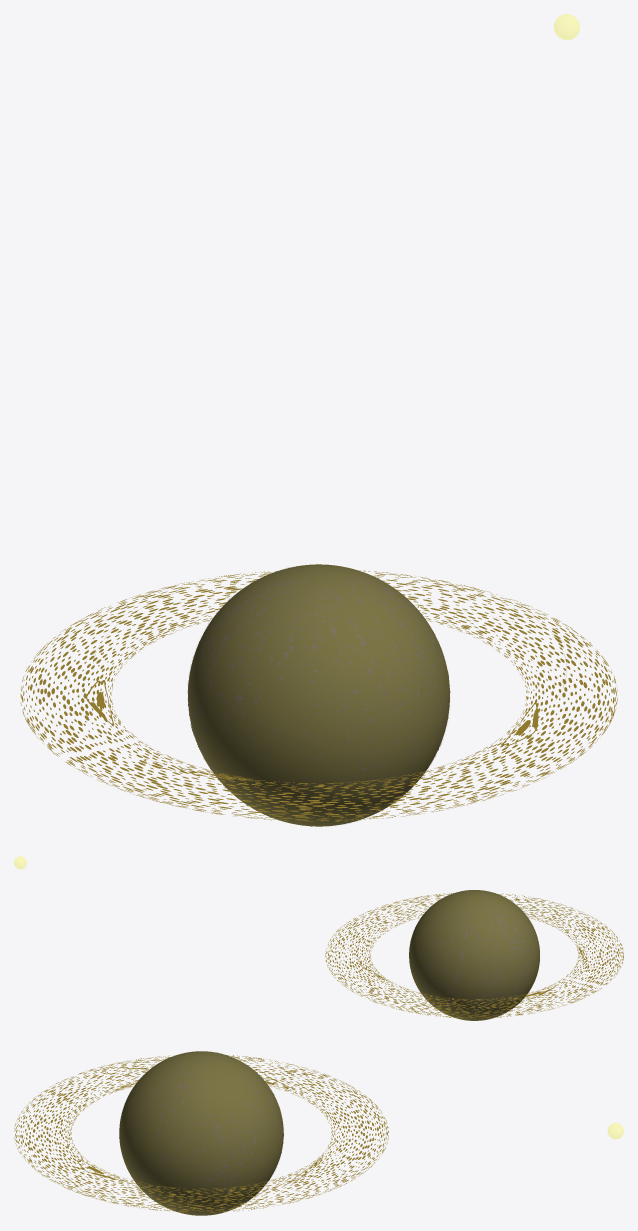
Rendered from ringed world.glb.
3 views of the same model, one above another, from view 1: azimuth 30°, elevation 25°; view 2: azimuth 150°, elevation 25°; view 3: azimuth 270°, elevation 25° (orthographic). The views are drawn at different scales.
Visible parts, largest first — view 1: Sphere001_10, Torus_0, Sphere004_14, Sphere005_15; view 2: Sphere001_10, Torus_0, Sphere004_14, Sphere005_15; view 3: Sphere001_10, Torus_0, Sphere005_15, Sphere004_14.
Part boxes in pixels (x1,y1,x2,y2): Sphere001_10: (188, 564, 449, 826); Torus_0: (20, 570, 617, 821); Sphere004_14: (187, 565, 450, 826); Sphere005_15: (187, 568, 450, 826); Sphere001_10: (409, 890, 539, 1020); Torus_0: (325, 893, 623, 1018); Sphere004_14: (409, 895, 538, 1019); Sphere005_15: (409, 897, 538, 1017); Sphere001_10: (119, 1051, 283, 1215); Torus_0: (14, 1055, 388, 1212); Sphere005_15: (121, 1053, 283, 1214); Sphere004_14: (121, 1052, 283, 1213).
Size of what is drawn, in the model's own units: 7.47 by 3.52 by 7.42.
Materials: 6 (3 with a texture image).
